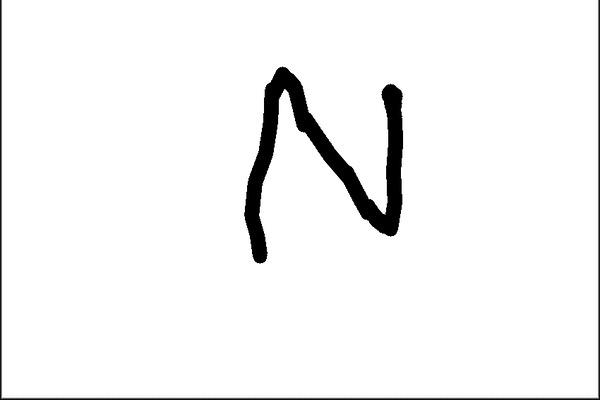N: (240, 61, 409, 266)
